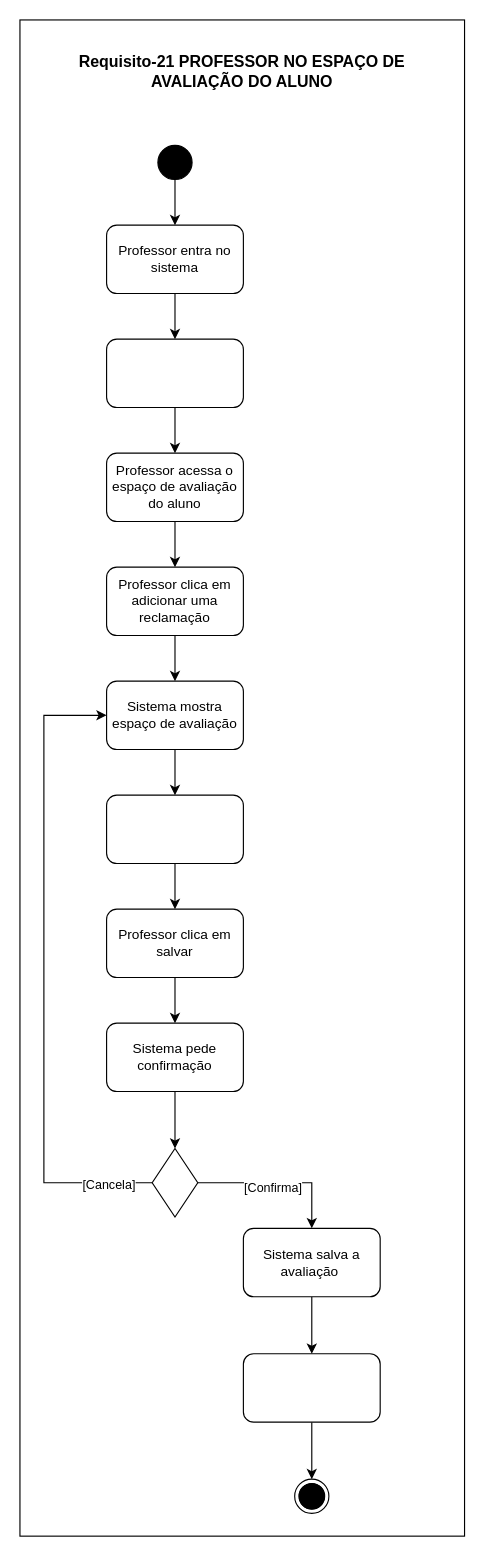
This 485x1556 diagram has some shape labels left out. The centre of each missing label's shape, as x and y in pixels:
Exibe mensagem de sucesso: point (311, 1387)
Professor acessa um aluno: point (174, 373)
Professor preenche com dados e informações sobre o aluno: point (174, 829)
